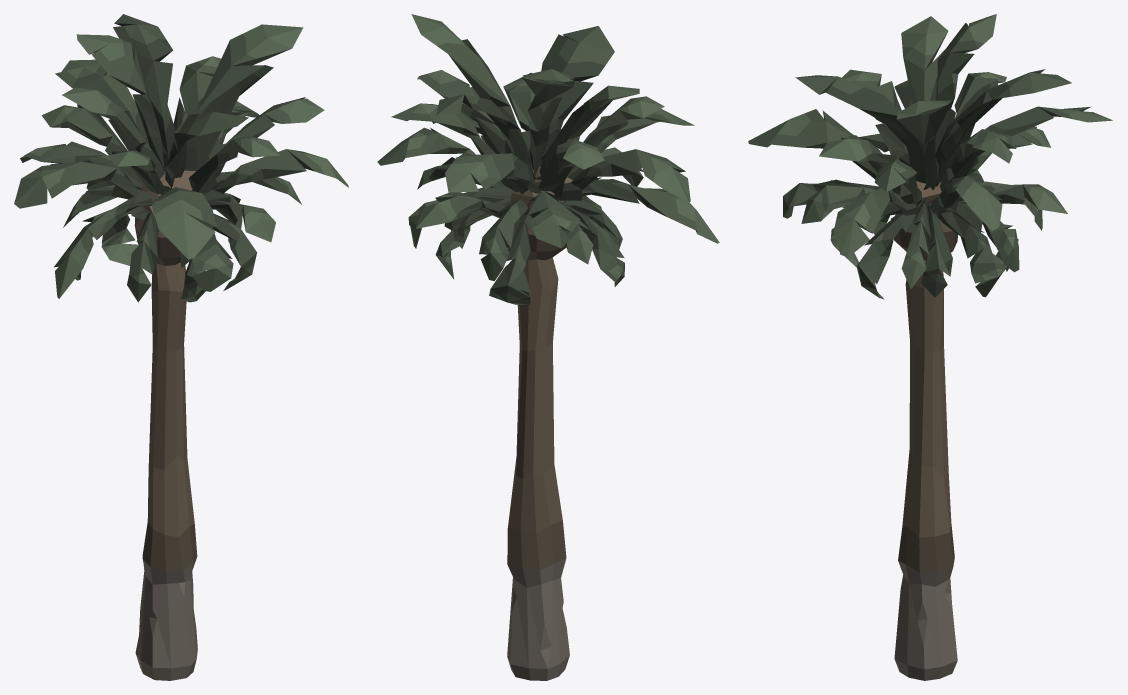
The model's file is SM_Env_Tree_Large_01.fbx.
3 views of the same model, side by side, from view 1: azimuth 30°, elevation 25°; view 2: azimuth 150°, elevation 25°; view 3: azimuth 270°, elevation 25° (orthographic).
Visible parts, largest first — view 1: SM_Env_Tree_Large_01; view 2: SM_Env_Tree_Large_01; view 3: SM_Env_Tree_Large_01.
Boxes of the visible parts, left/top/right/bottom form: SM_Env_Tree_Large_01: left=14, top=14, right=348, bottom=680; SM_Env_Tree_Large_01: left=377, top=14, right=719, bottom=680; SM_Env_Tree_Large_01: left=748, top=14, right=1112, bottom=680.
Size of the model in its own units: 549 by 1123 by 587.
